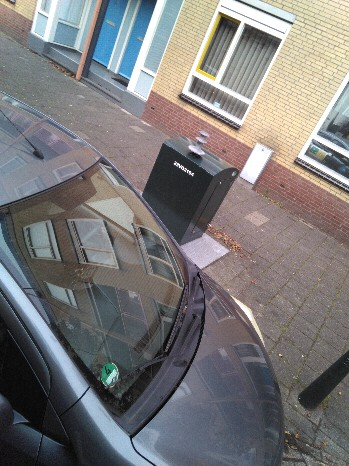Container: (162, 149, 243, 269)
Voertuig: (8, 281, 265, 466)
